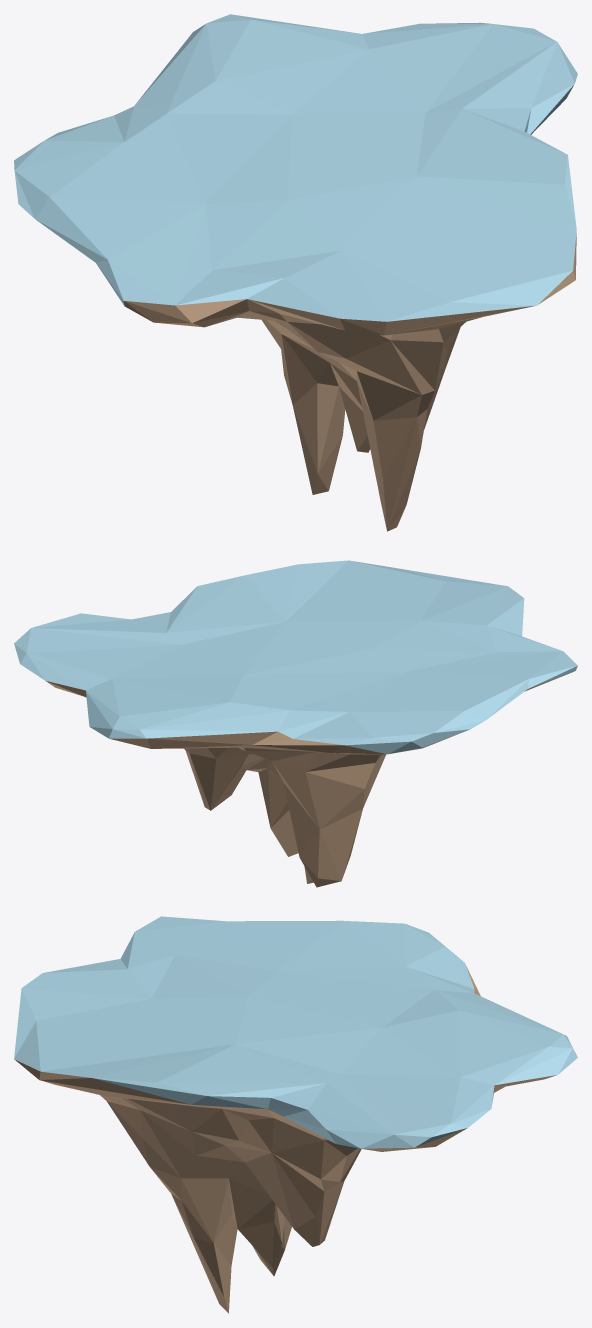
Rendered from island5_Blue.fbx.
3 renders of one model, top to bottom at view 1: azimuth 30°, elevation 25°; view 2: azimuth 150°, elevation 25°; view 3: azimuth 270°, elevation 25°, orthographic. The views are drawn at different scales.
Parts seen in each view (by area): view 1: island5; view 2: island5; view 3: island5.
Part boxes in pixels (x1,y1,x2,y2): island5: (14,14,577,531); island5: (14,560,577,887); island5: (14,916,577,1313).
Bounding box in the file's own units: 64.02 × 37.17 × 66.15.
